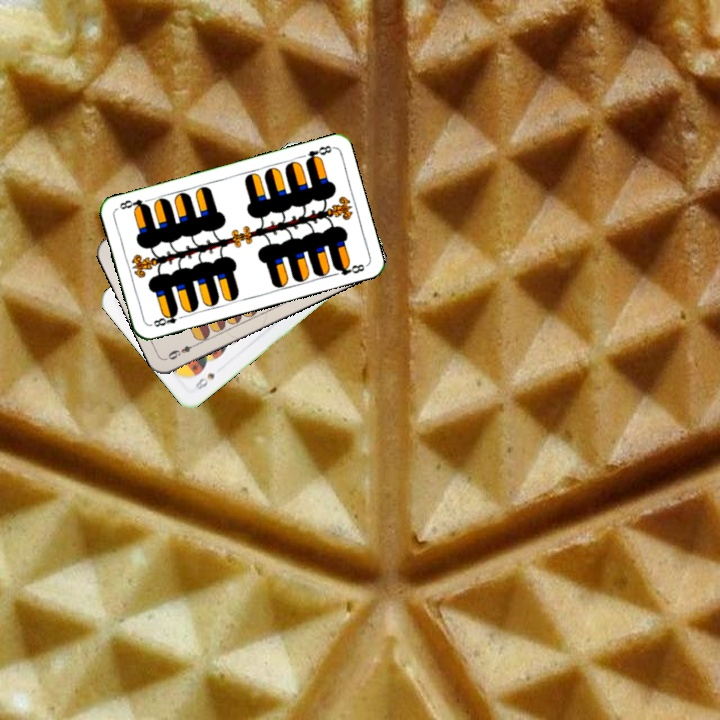E8: (301, 141, 335, 166), (149, 307, 187, 329)
E9: (164, 339, 201, 362)
S8: (191, 369, 217, 393)
